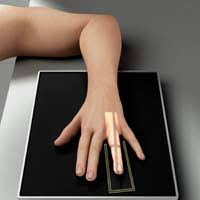ring: (103, 128, 126, 183)
